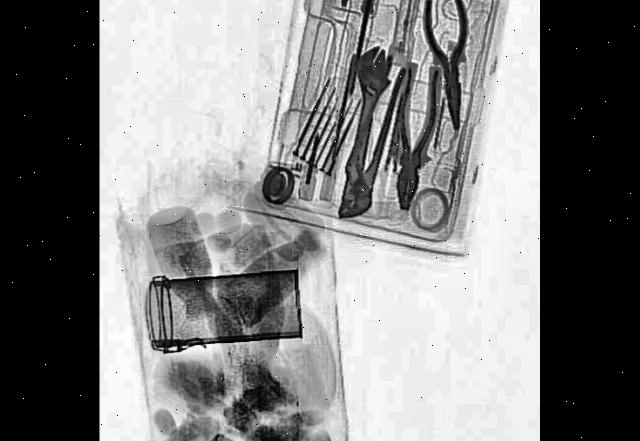Pliers: (386, 56, 441, 212), (421, 0, 477, 131)
Wrench: (332, 36, 395, 207)
